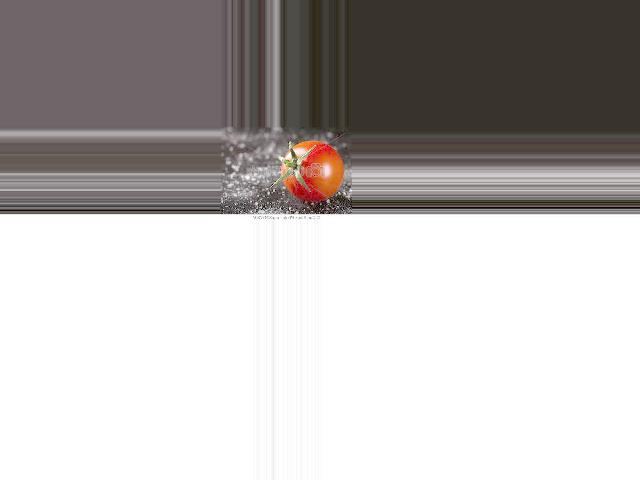tomato: (280, 140, 343, 201)
